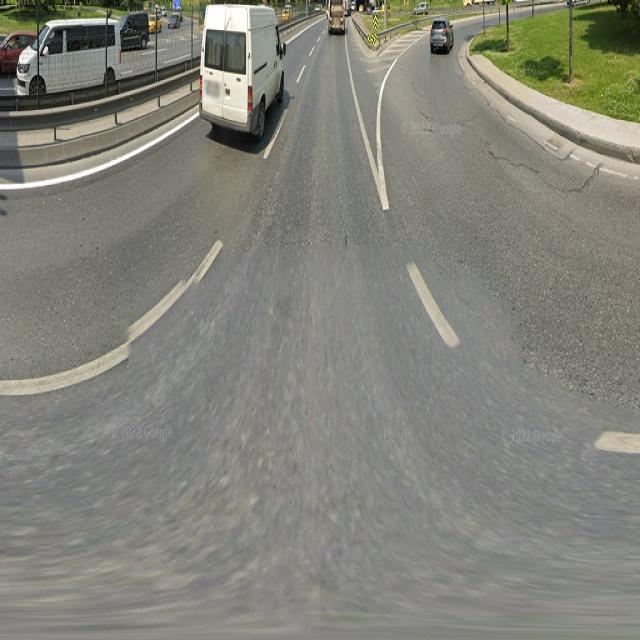Guard rail: (6, 114, 194, 192)
Pedestrian crosswalk: (343, 39, 389, 212)
Road: (82, 48, 520, 625), (398, 67, 626, 387), (5, 133, 239, 362)
